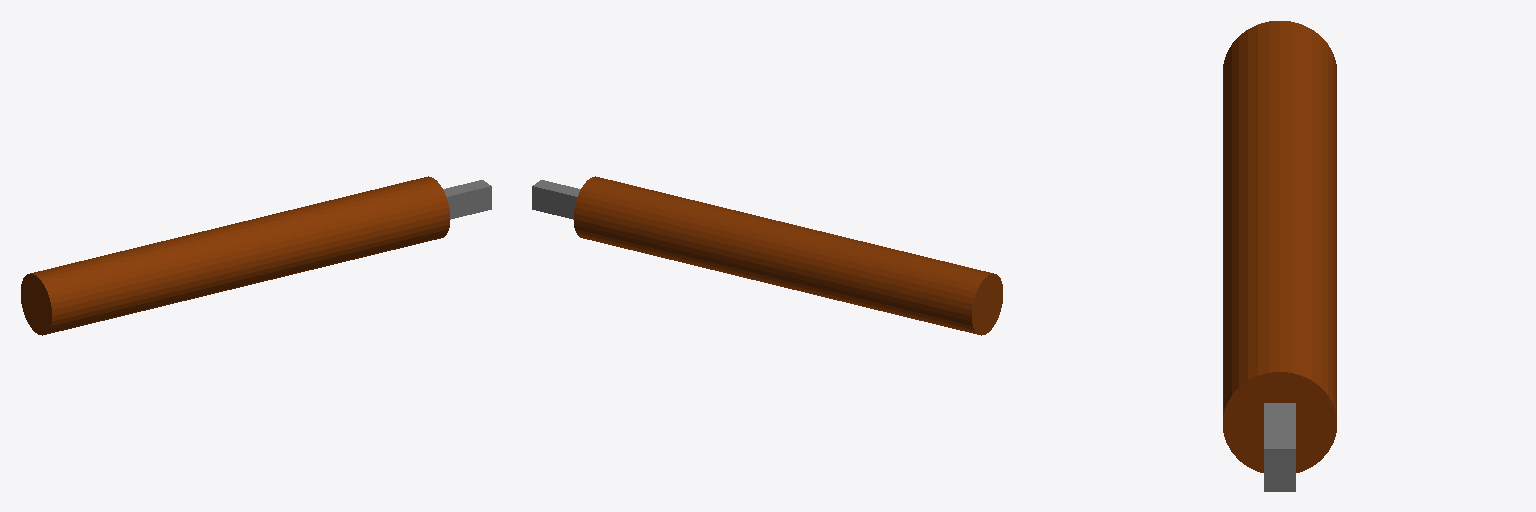
URDF robot description (handle_head):
<?xml version="1.0"?>
<robot name="handle_head">

  <link name="handle_head">
    <!-- Handle -->
    <visual>
              <origin xyz="0 0 0" rpy="0 -1.5707963267948966 0"/>
        <geometry>
          <cylinder length="0.1454510053629956" radius="0.01005210996172992"/>
        </geometry>
        
      <material name="brown">
        <color rgba="0.55 0.27 0.07 1.0"/>
      </material>
    </visual>
    <collision>
              <origin xyz="0 0 0" rpy="0 -1.5707963267948966 0"/>
        <geometry>
          <cylinder length="0.1454510053629956" radius="0.01005210996172992"/>
        </geometry>
        
    </collision>

    <!-- Head -->
    <visual>
              <origin xyz="0.08232342885537336 0 0" rpy="0 0 0"/>
        <geometry>
          <box size="0.01919585234775111 0.005614584899328543 0.008215460170177378"/>
        </geometry>
        
      <material name="gray">
        <color rgba="0.5 0.5 0.5 1.0"/>
      </material>
    </visual>
    <collision>
              <origin xyz="0.08232342885537336 0 0" rpy="0 0 0"/>
        <geometry>
          <box size="0.01919585234775111 0.005614584899328543 0.008215460170177378"/>
        </geometry>
        
    </collision>

    <inertial>
      <origin xyz="0.0011998852185055686 0 0" rpy="0 0 0"/>
      <mass value="0.028010602309757642"/>
      <inertia ixx="1.3743748315469777e-06" iyy="6.16252891703893e-05" izz="6.162406539821373e-05" ixy="0" ixz="0" iyz="0"/>
    </inertial>
  </link>

</robot>

--- Render facts (derived) ---
Views: 3 orthographic renders of the robot side by side, from view 1: azimuth 30°, elevation 25°; view 2: azimuth 150°, elevation 25°; view 3: azimuth 270°, elevation 25°.
Robot: handle_head — 1 links, 0 joints (none); root link handle_head; default pose: all joints at 0.
Visible links, largest first — view 1: handle_head; view 2: handle_head; view 3: handle_head.
Boxes of the visible links, bbox=[...] form: handle_head: bbox=[21, 176, 491, 335]; handle_head: bbox=[532, 176, 1002, 335]; handle_head: bbox=[1223, 21, 1336, 491].
Bounding box of the posed robot: 0.1646 × 0.0201 × 0.0201 m (x, y, z).
Geometry: primitives only (box / cylinder / sphere), no mesh files.
